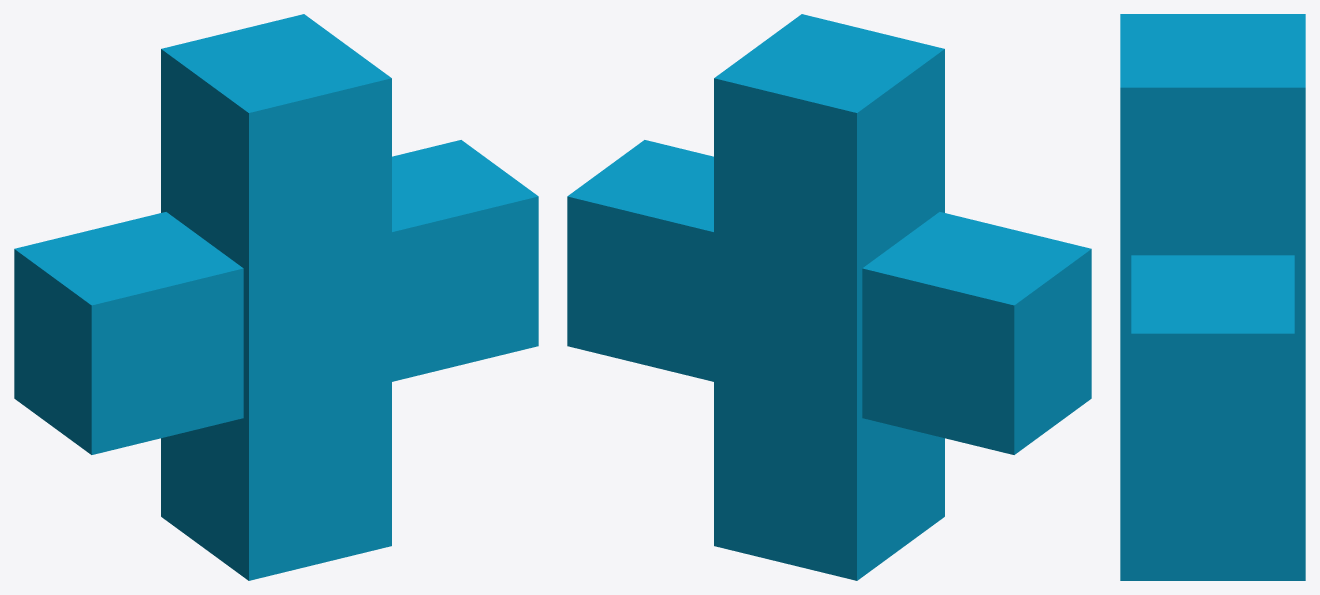
The model's file is SM_PickupRepair.obj.
3 renders of one model, left to right at view 1: azimuth 30°, elevation 25°; view 2: azimuth 150°, elevation 25°; view 3: azimuth 270°, elevation 25°, orthographic. The views are drawn at different scales.
Visible parts, largest first — view 1: SM_PickupRepair; view 2: SM_PickupRepair; view 3: SM_PickupRepair.
Boxes of the visible parts, x1=… form: SM_PickupRepair: x1=14, y1=14, x2=538, y2=580; SM_PickupRepair: x1=567, y1=14, x2=1091, y2=580; SM_PickupRepair: x1=1120, y1=14, x2=1305, y2=580.
Bounding box in the file's own units: 50 × 50 × 17.
